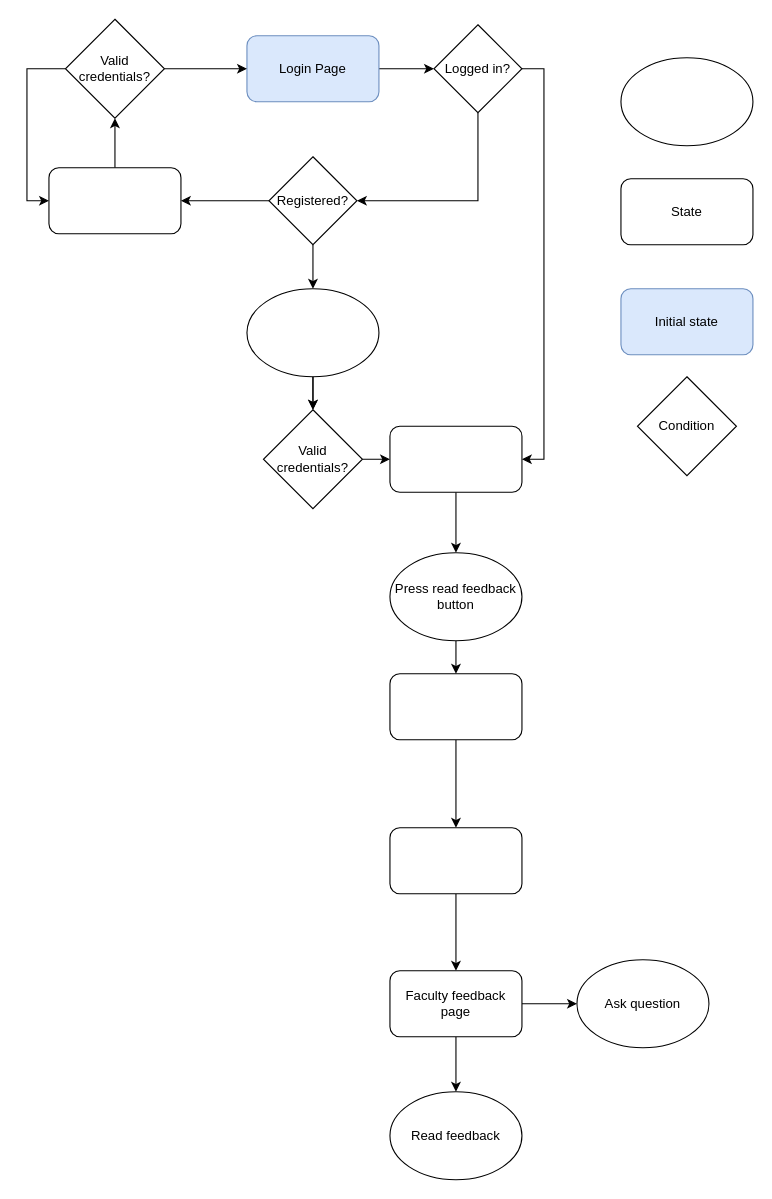
This 772x1199 diagram has some shape labels left out. Each missing label, with the centre of its shape:
Action: the point at 686,101
Choose faculty page: the point at 455,860
Choose university page: the point at 455,706
Complete login form: the point at 312,332
Profile page: the point at 455,458
Register Page: the point at 114,200
